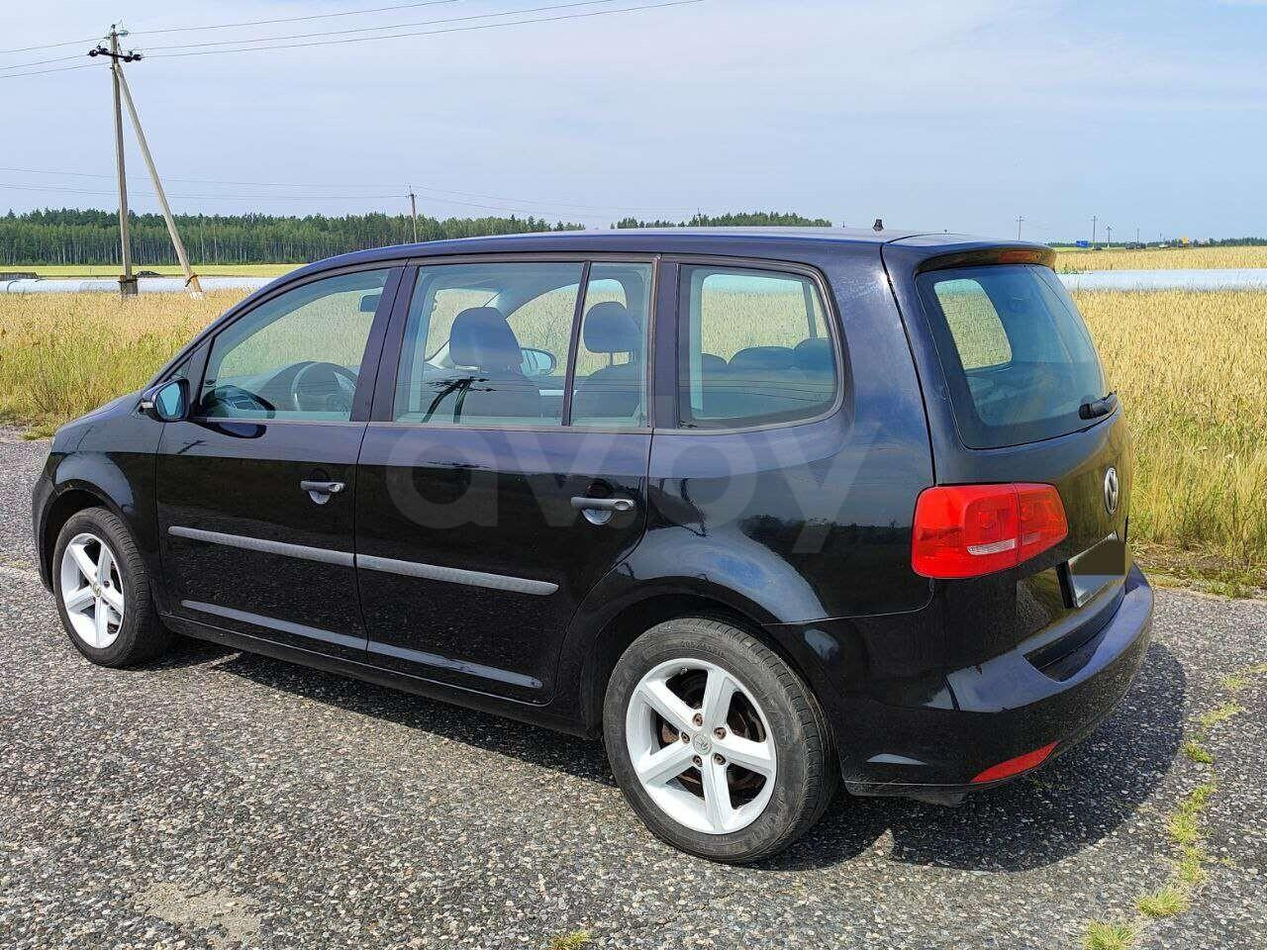Touran_2010-2015: (31, 220, 1161, 854)
